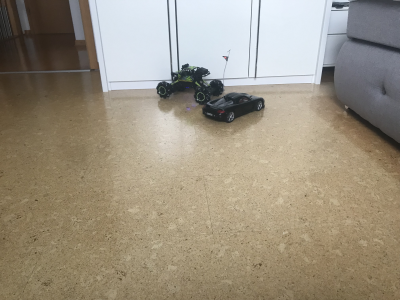remote control car: (155, 61, 226, 103)
